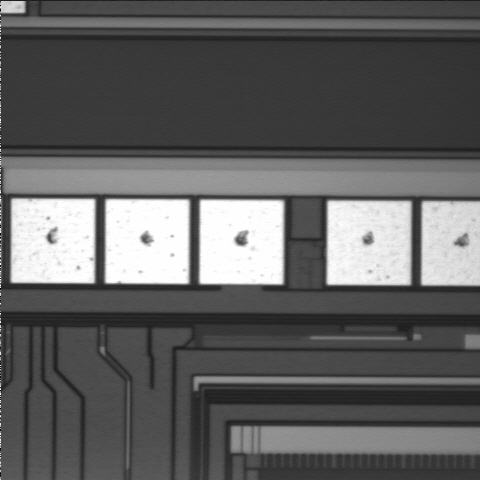pad: (105, 199, 190, 284), (199, 200, 284, 285), (11, 199, 95, 283), (327, 201, 411, 285)
